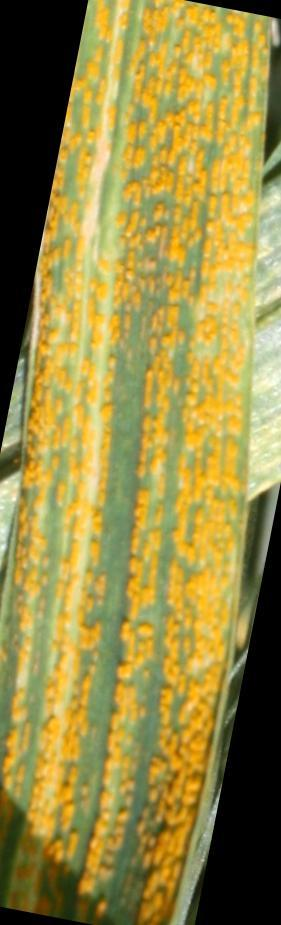Wheat: (34, 24, 254, 479), (8, 466, 212, 875)
